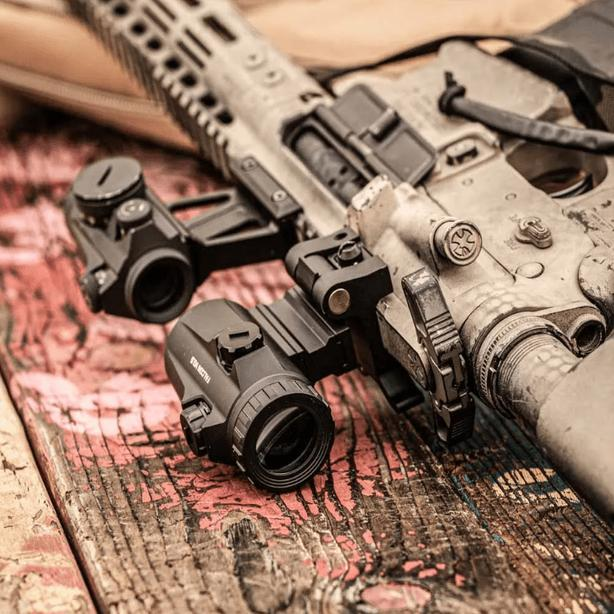Firearm: (50, 0, 614, 601)
